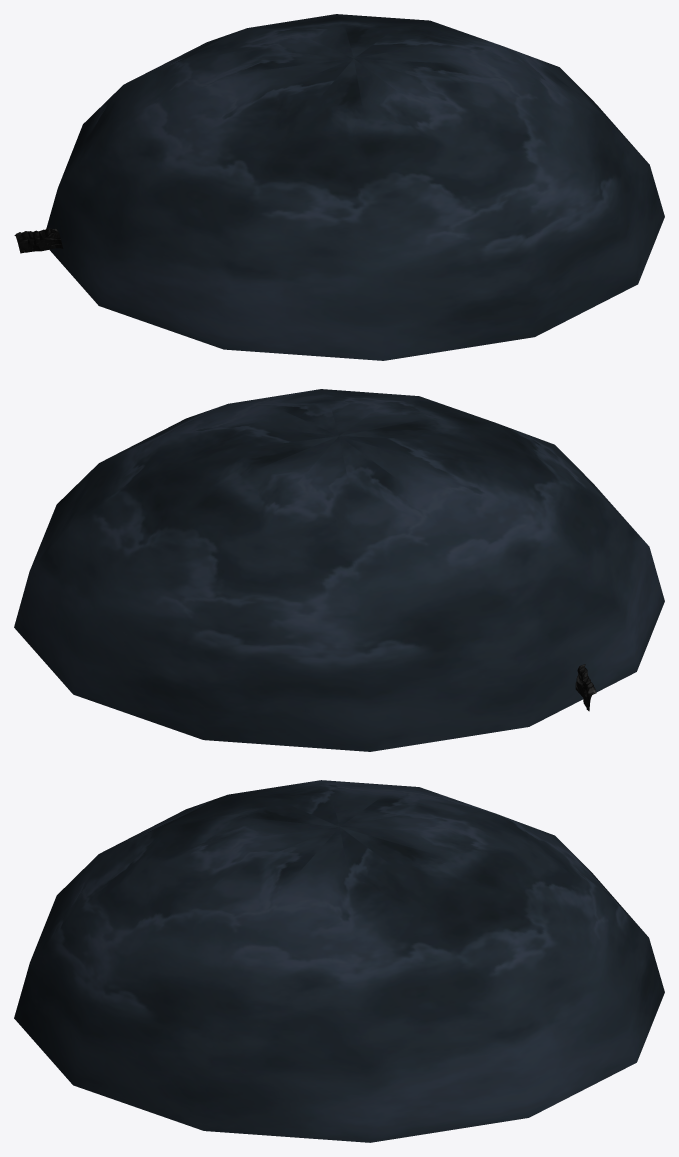
Rendered from env_bar_conquest8_pre.glb.
The picture shows the model from 3 angles, top to bottom: view 1: azimuth 30°, elevation 25°; view 2: azimuth 150°, elevation 25°; view 3: azimuth 270°, elevation 25°; orthographic projection. The views are drawn at different scales.
Parts seen in each view (by area): view 1: skybox_01_mesh (1), sul_rockwall_02_mesh (4); view 2: skybox_01_mesh (1), sul_rockwall_02_mesh (4); view 3: skybox_01_mesh (1).
Part boxes in pixels (left/top/right/bottom): skybox_01_mesh (1): left=46, top=14, right=664, bottom=360; sul_rockwall_02_mesh (4): left=14, top=227, right=63, bottom=253; skybox_01_mesh (1): left=14, top=389, right=664, bottom=751; sul_rockwall_02_mesh (4): left=575, top=664, right=596, bottom=711; skybox_01_mesh (1): left=14, top=780, right=664, bottom=1142.
Bounding box in the file's own units: 314 × 90.93 × 301.
Materials: 8 (8 with a texture image).
